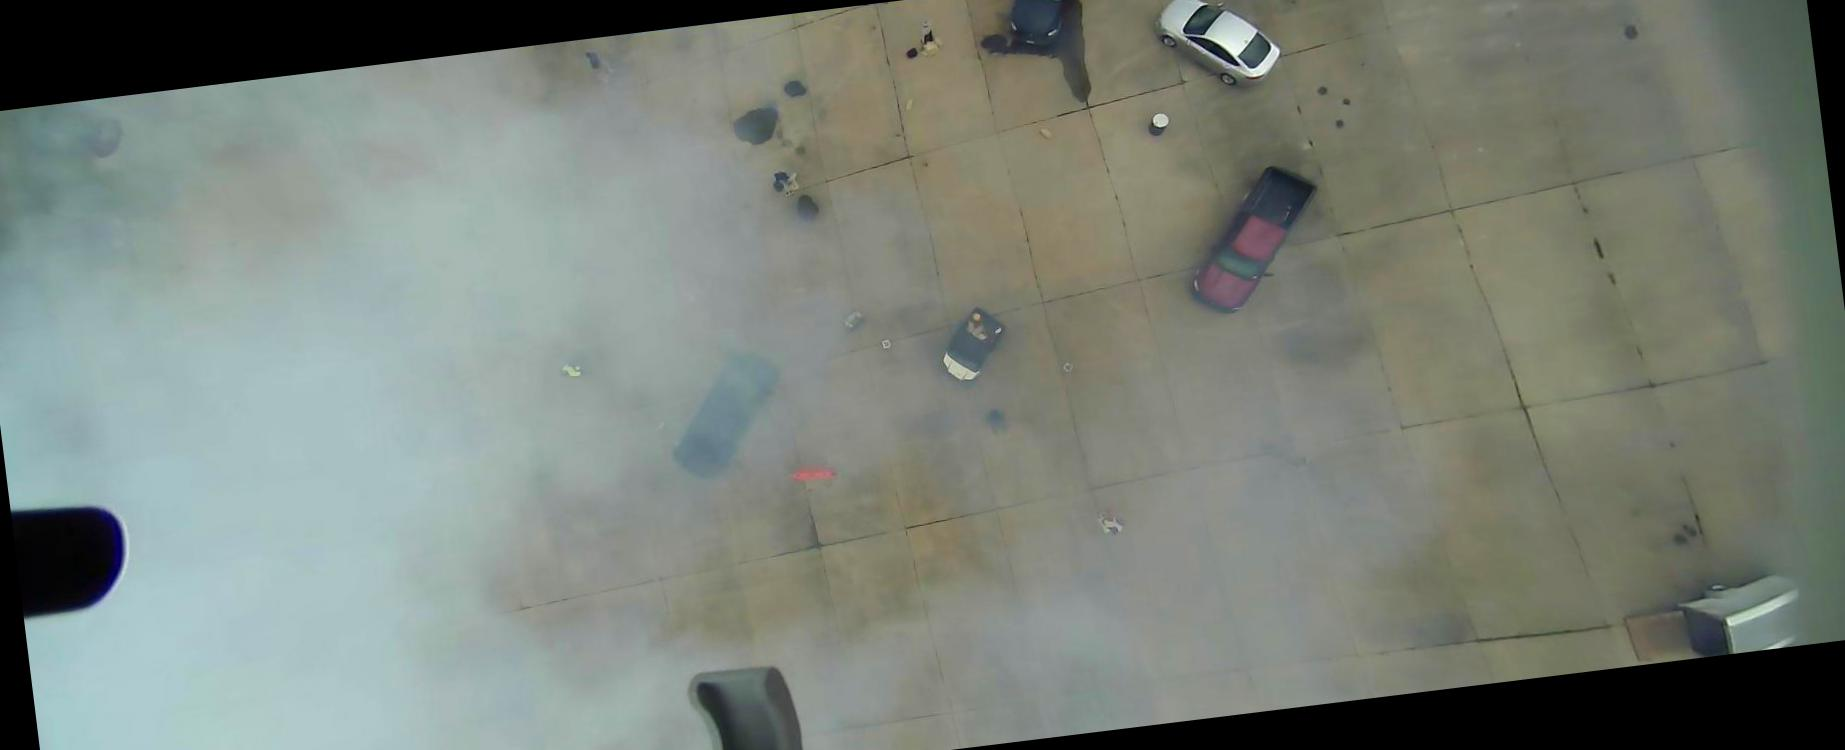vehicle: (1178, 159, 1332, 318), (659, 341, 790, 483), (1151, 0, 1286, 97), (933, 304, 1012, 391), (1004, 0, 1081, 49)
